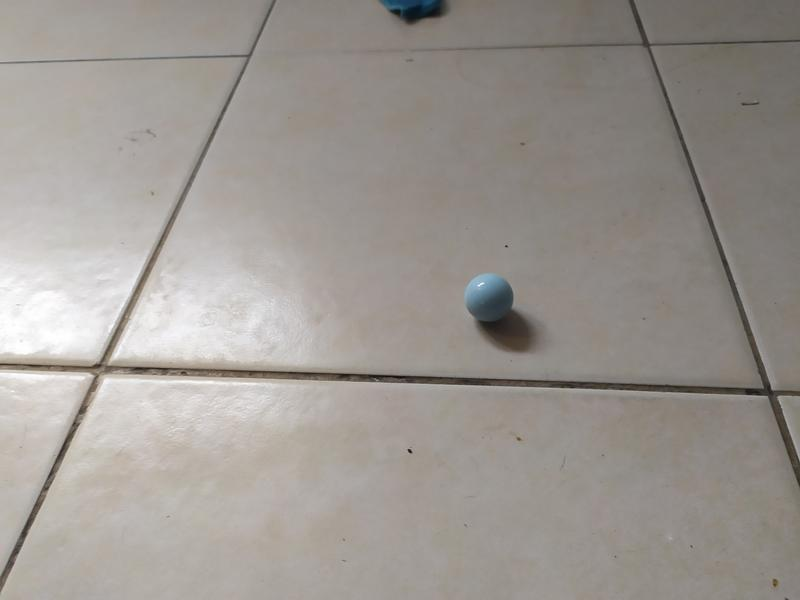Warning: (462, 271, 516, 324)
